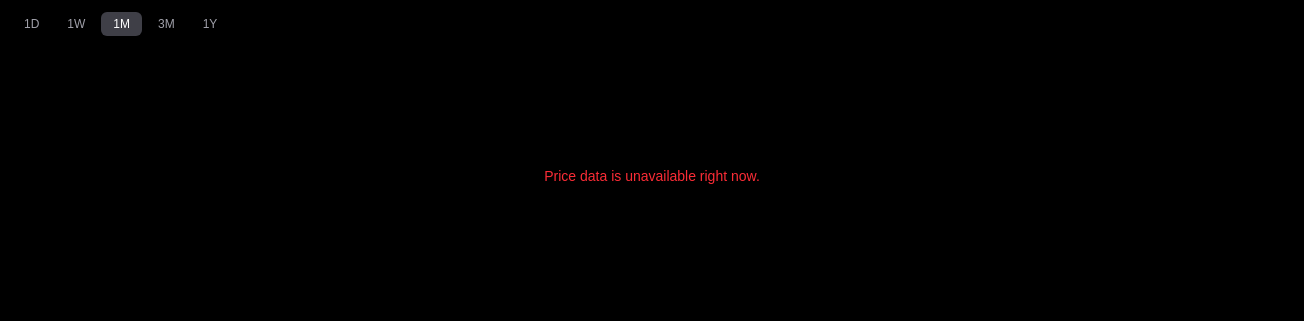
PriceChart › shows an alert when the request fails and keeps the period buttons usable
Expected: the message reads "Price data is unavailable right now.", 544,168 -> 760,184
Click the button "1W": (76, 24) 55,12 -> 97,36
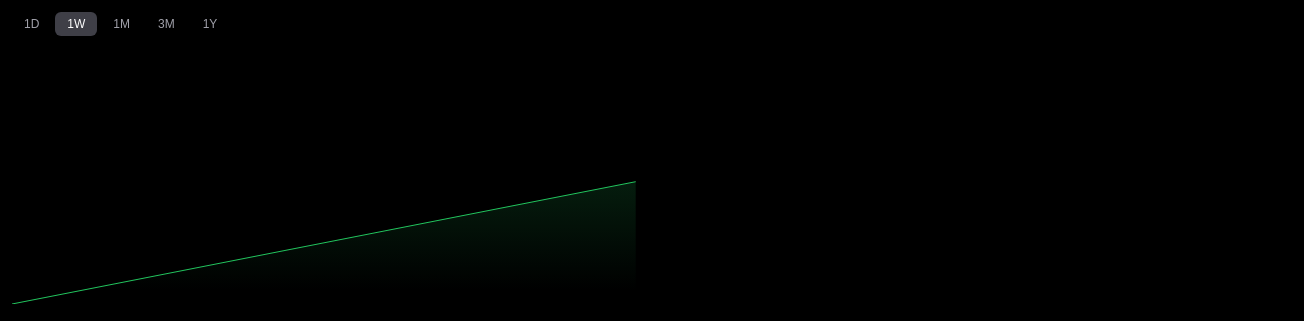
Now the picture named "Price chart" is shown
